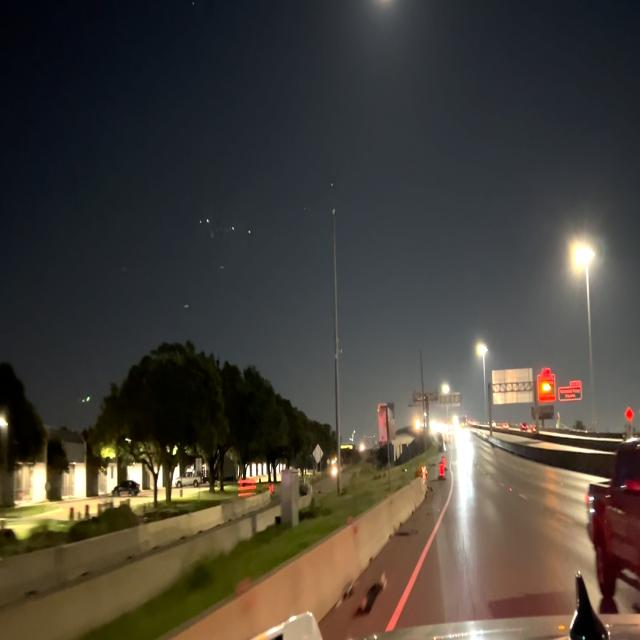back-of-sign: (489, 366, 536, 409), (376, 398, 398, 447), (439, 389, 463, 411)
